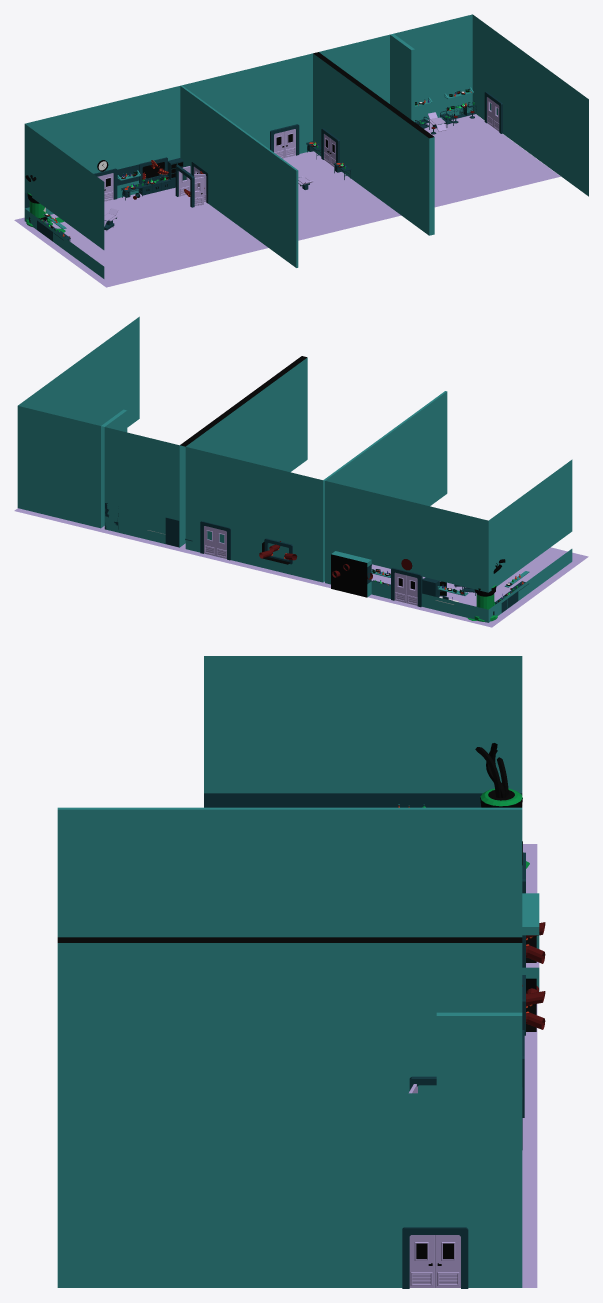
File: OverWorldTestTony7.fbx
3 renders of one model, top to bottom at view 1: azimuth 30°, elevation 25°; view 2: azimuth 150°, elevation 25°; view 3: azimuth 270°, elevation 25°, orthographic. The views are drawn at different scales.
Visible parts, largest first — view 1: Cube.072, Cube.108, Cube.115, Cube.098, Cube.133, Cube.110, Cube.078, Cube.093, Cube.099, Cube.103; view 2: Cube.072, Cube.078, Cube.108, Cube.107, Cube.093; view 3: Cube.072, Cube.133, Cube.093, Cube.107.
Part boxes in pixels (<box>): Cube.072: <box>14,14,588,287</box>; Cube.108: <box>270,124,299,158</box>; Cube.115: <box>175,165,203,207</box>; Cube.098: <box>139,157,168,183</box>; Cube.133: <box>484,91,502,133</box>; Cube.110: <box>321,128,339,166</box>; Cube.078: <box>94,168,117,201</box>; Cube.093: <box>25,175,65,232</box>; Cube.099: <box>139,176,170,195</box>; Cube.103: <box>184,161,208,203</box>; Cube.072: <box>14,316,588,627</box>; Cube.078: <box>391,568,422,607</box>; Cube.108: <box>200,521,230,560</box>; Cube.107: <box>259,538,297,564</box>; Cube.093: <box>467,559,505,621</box>; Cube.072: <box>57,656,539,1287</box>; Cube.133: <box>402,1227,468,1288</box>; Cube.093: <box>475,743,529,868</box>; Cube.107: <box>522,975,545,1035</box>.
Size of the model in its own units: 2654 by 567 by 1228.
